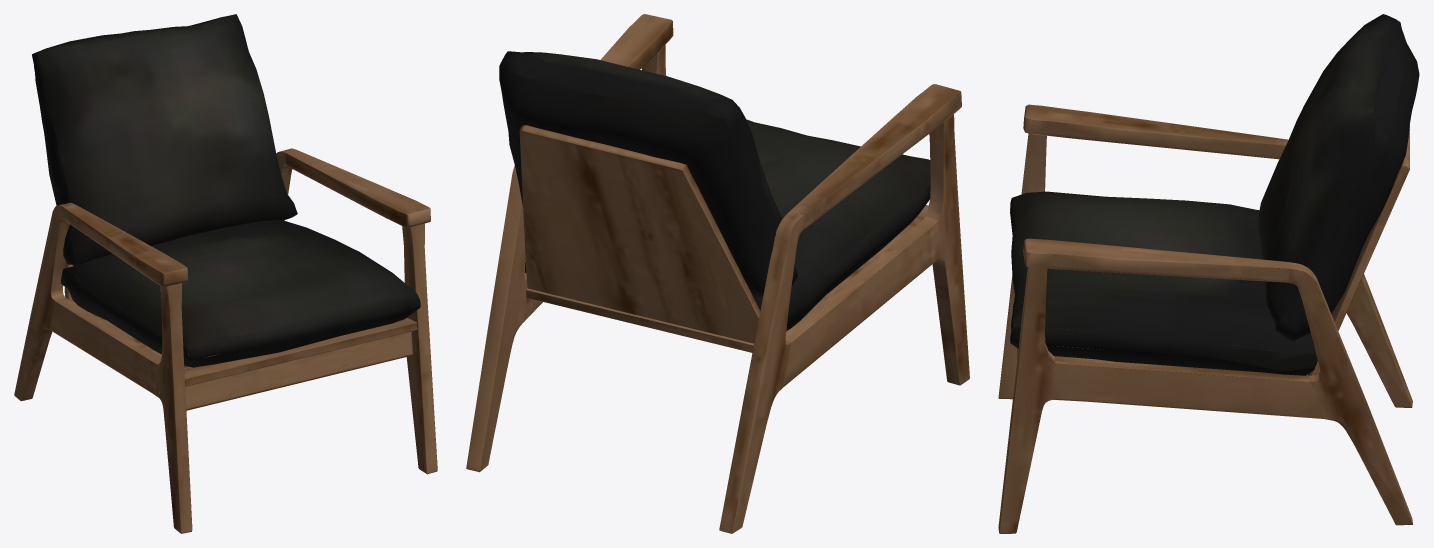
File: armchair-lightweight-8988171d95.glb
The picture shows the model from 3 angles, left to right: view 1: azimuth 30°, elevation 25°; view 2: azimuth 150°, elevation 25°; view 3: azimuth 270°, elevation 25°; orthographic projection. The views are drawn at different scales.
Parts seen in each view (by area): view 1: modern_arm_chair_01; view 2: modern_arm_chair_01; view 3: modern_arm_chair_01.
Boxes of the visible parts, x1,y1,x2,y2 form: modern_arm_chair_01: [14, 14, 437, 533]; modern_arm_chair_01: [466, 14, 969, 533]; modern_arm_chair_01: [998, 14, 1419, 533].
Bounding box in the file's own units: 0.8204 × 1.02 × 0.9873.
2 materials, 2 textured.
